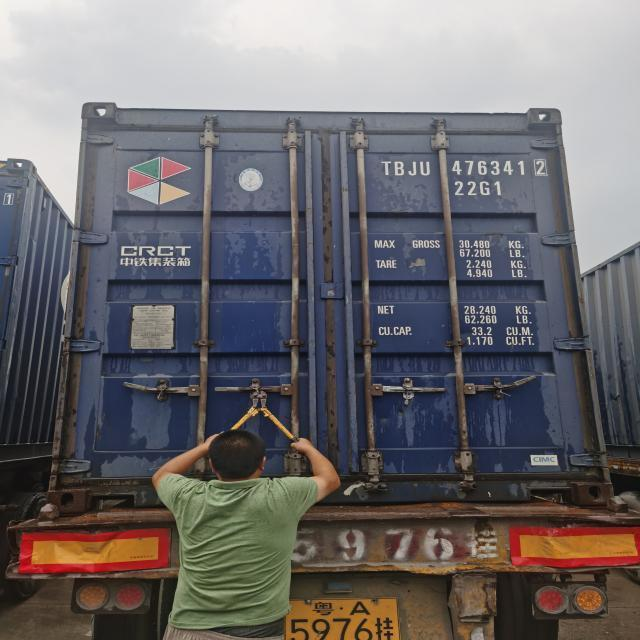ISO: (456, 180, 501, 198)
container_number: (382, 156, 548, 178)
